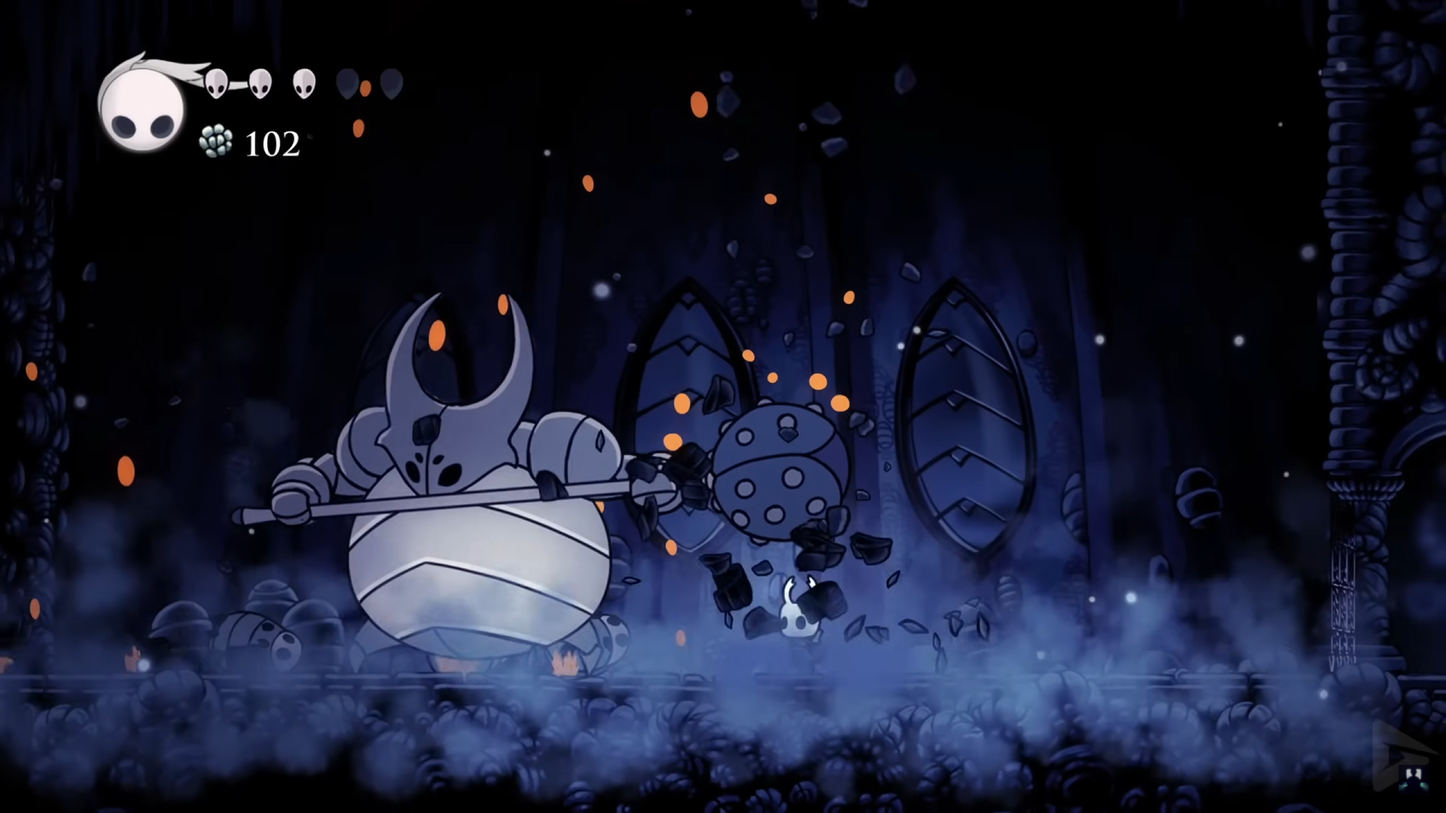HK: (776, 573, 830, 679)
